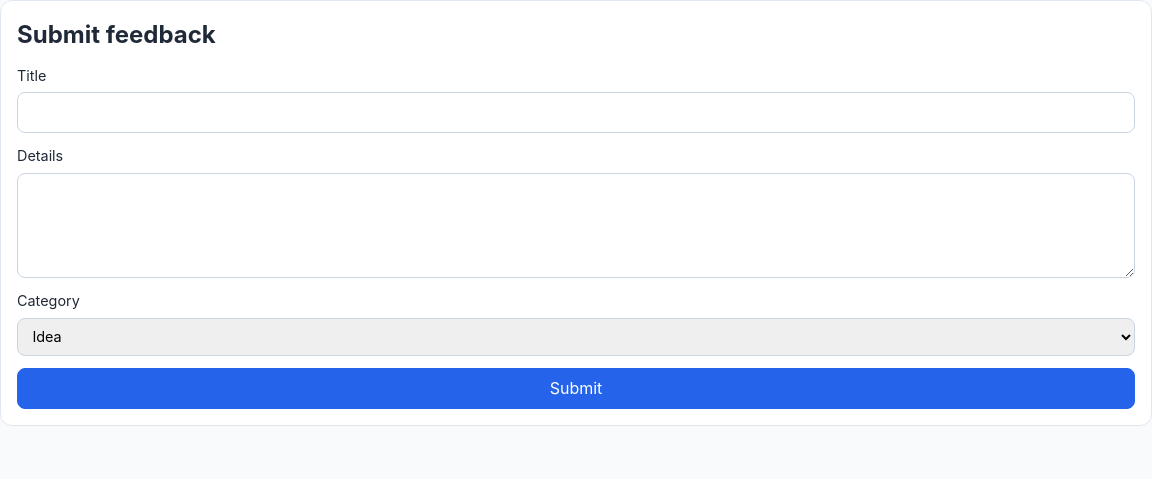
Test case: FeedbackForm › shows an error and preserves input when submission fails
Type "Broken export" into the field labelled "Title" at (576, 113), box [17,92,1135,133]
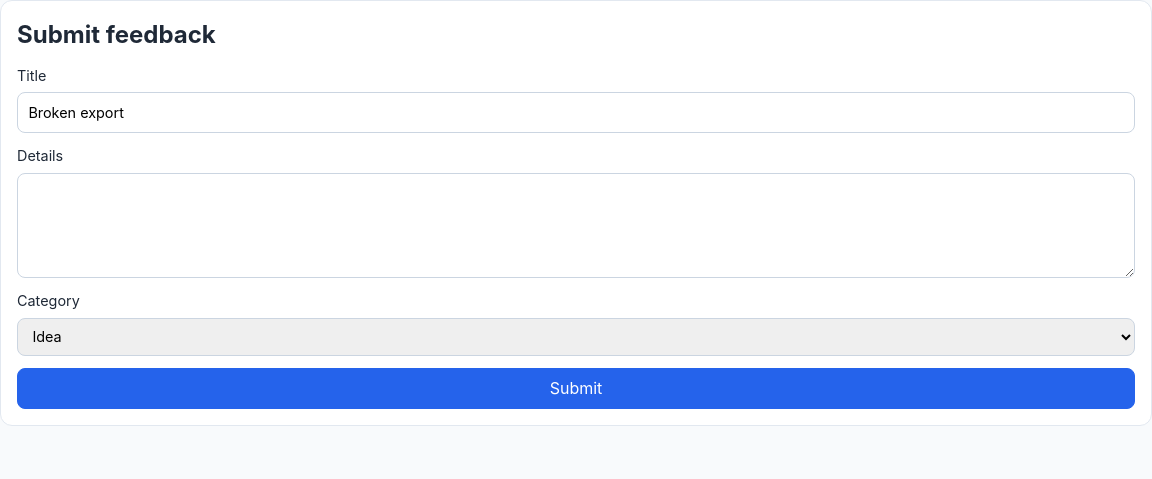
Type "CSV export crashes" into the text box labelled "Details" at (576, 226), box [17,173,1135,278]
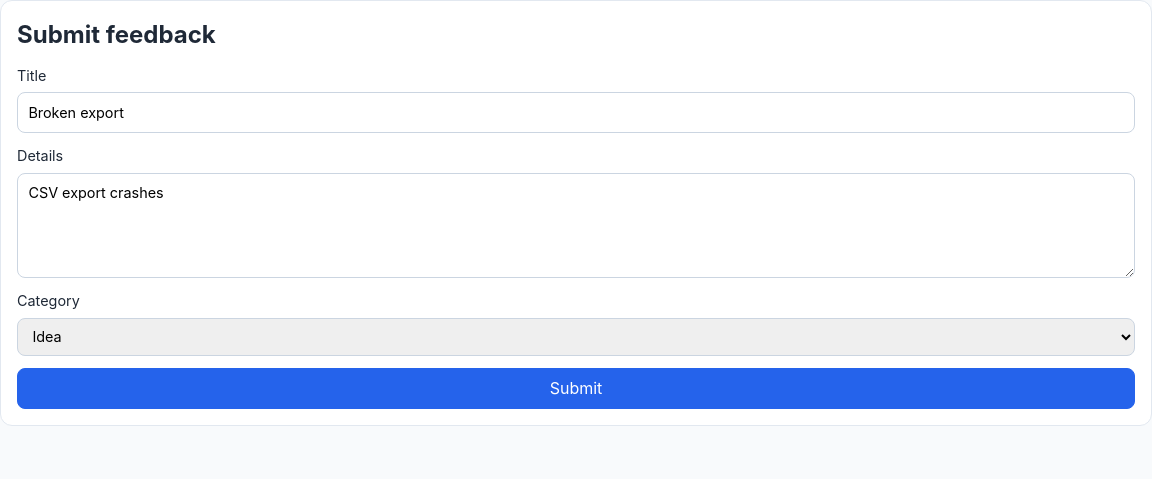
Select "Bug" in the dropdown labelled "Category" at (576, 337), box [17,318,1135,356]
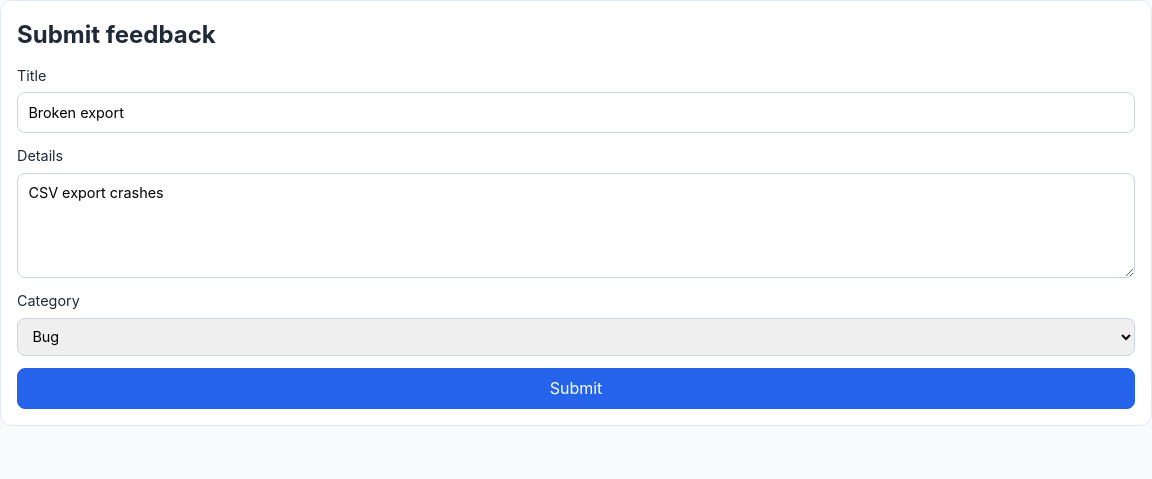
Click the button "Submit" at (576, 388), box [17,368,1135,409]
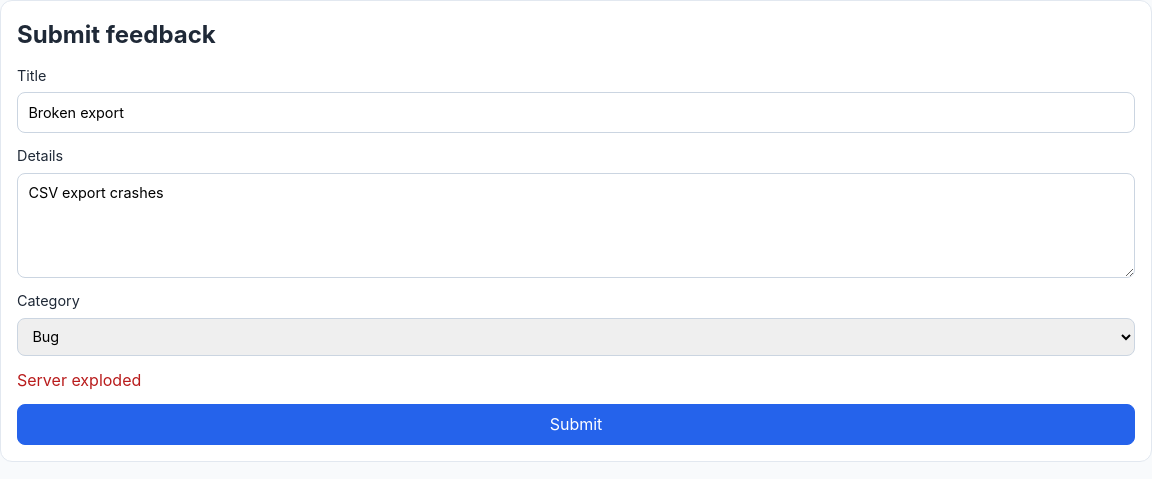
Check: the text "Server exploded" is shown, box [17,370,141,390]
